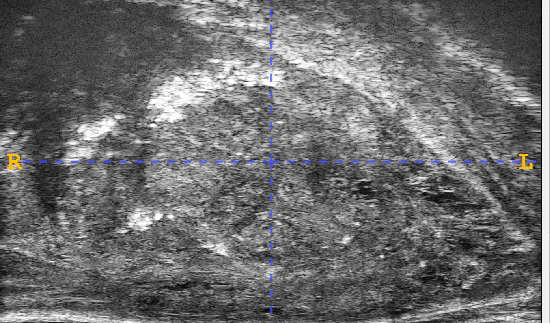calcifications: (29, 61, 272, 179), (74, 153, 301, 251)
